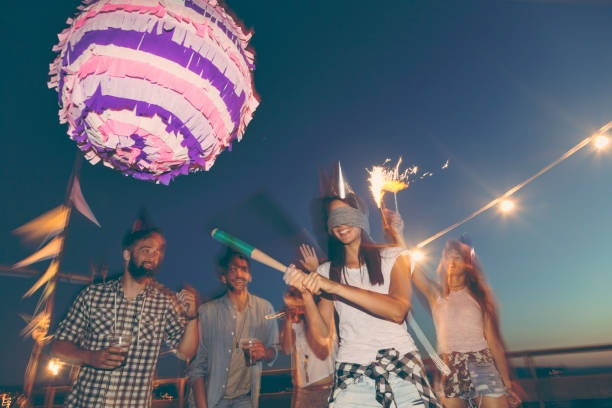bita: (216, 228, 320, 288)
